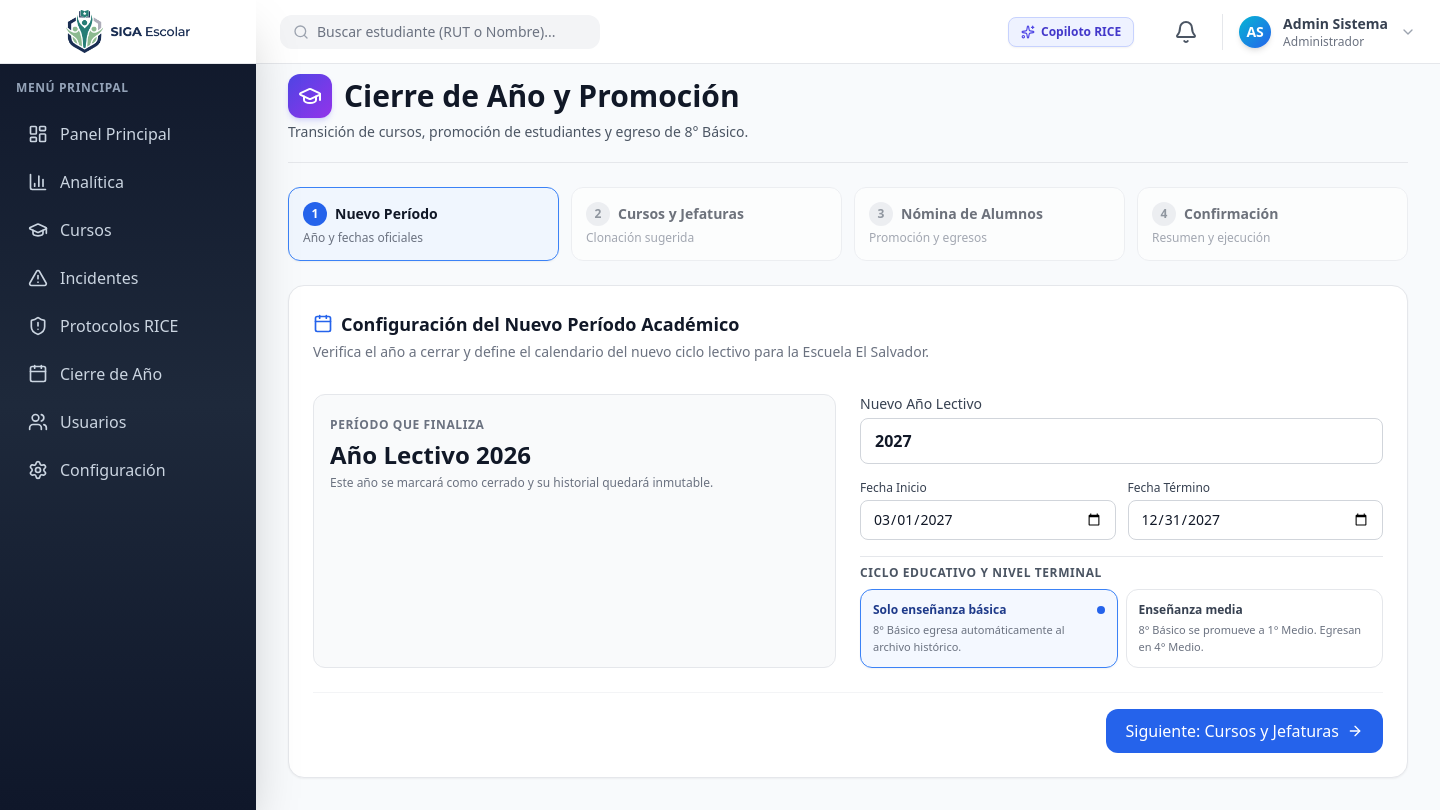
Test: CierreAnioPage (Sprint 7 - Asistente de Promoción y Cierre de Año) › permite avanzar al Paso 2 y muestra cursos proyectados con jefatura sugerida
(page scrolled)
Check: the heading "Cierre de Año y Promoción" is shown, box [344,78,740,114]
Step 1. Click the button "Siguiente: Cursos y Jefaturas" → (1244, 731), box [1106,709,1383,753]
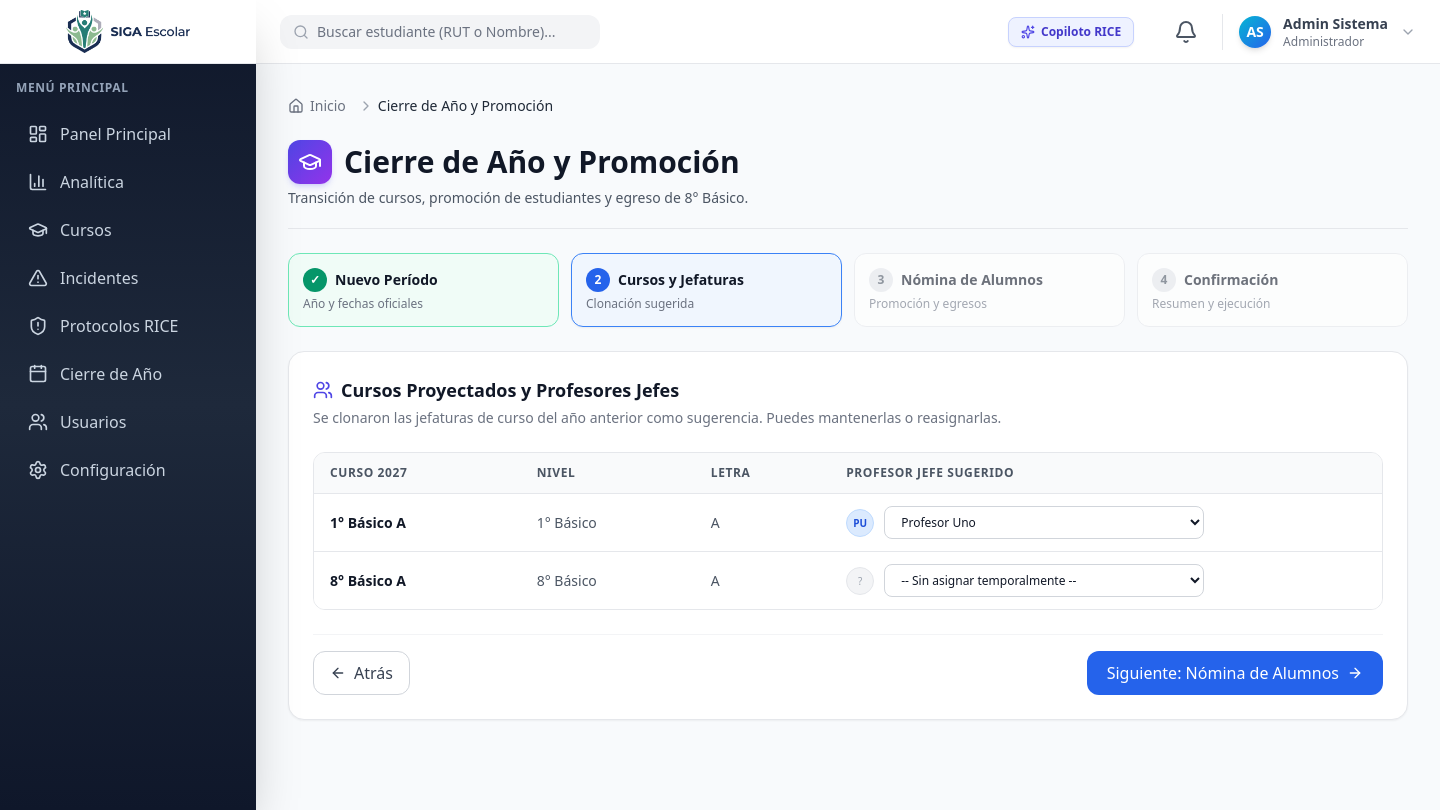
Check: the heading "Cursos Proyectados y Profesores Jefes" is shown, box [313,378,679,402]
Check: the text "1° Básico A" is shown, box [314,494,521,552]
Check: the text "8° Básico A" is shown, box [314,552,521,609]
